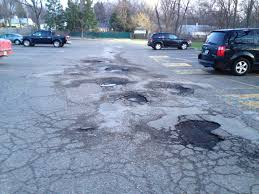pothole: (172, 118, 230, 153), (150, 79, 195, 99), (120, 90, 148, 106), (95, 76, 127, 89), (82, 56, 107, 65), (133, 67, 157, 76), (75, 123, 98, 132), (105, 66, 129, 74), (68, 70, 82, 76)
